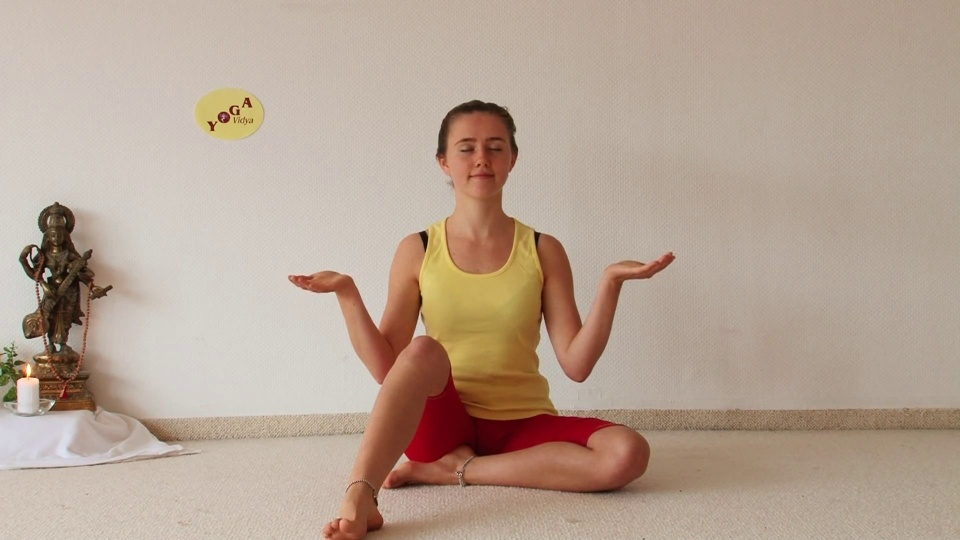person: (286, 102, 680, 524)
